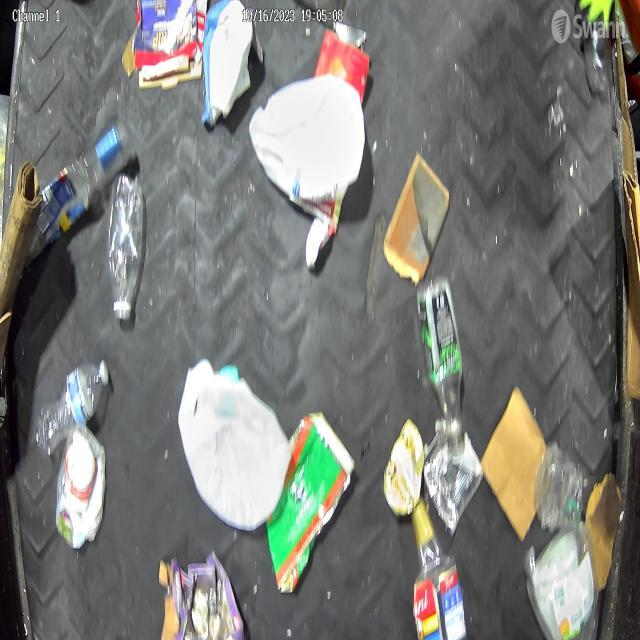can: (422, 420, 486, 538), (382, 418, 426, 522)
milk_jug: (177, 356, 291, 534), (248, 75, 366, 204)
non_white_jug: (527, 516, 598, 640)
plastic_bottle: (26, 116, 132, 264), (416, 272, 466, 452), (35, 354, 110, 460), (107, 173, 146, 326)
